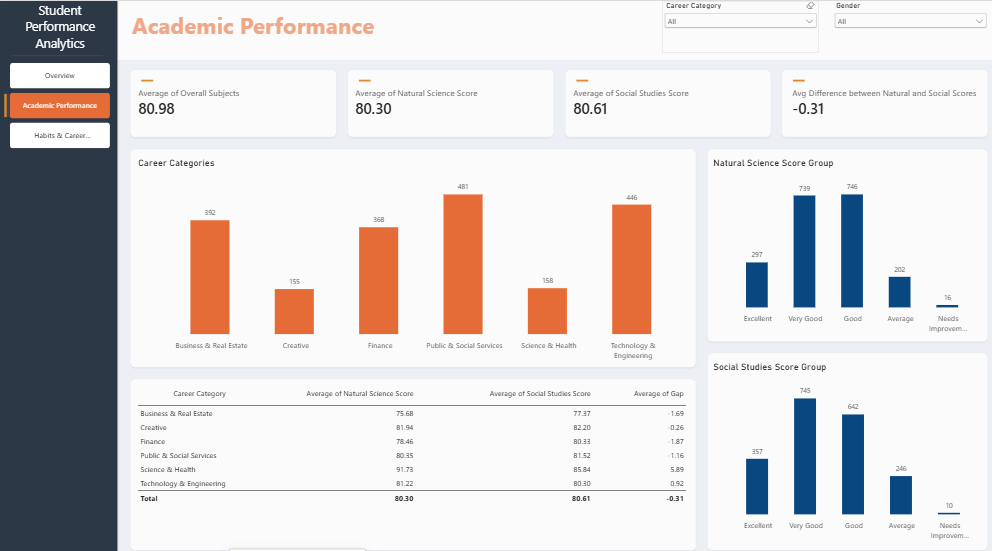

Layout of this report page (visuals, bound fields, positions):
{"tool":"powerbi","page":{"name":"Academic Performance","canvas":[1920,1080],"ordinal":1},"visuals":[{"type":"clusteredColumnChart","title":"Career Categories","fields":{"Category":["StudentPerformance.Career Category","StudentPerformance.career_aspiration"],"Y":["CountNonNull(StudentPerformance.id)"]},"box":[255,285,1083.3,420],"z":0},{"type":"slicer","fields":{"Values":["StudentPerformance.gender"]},"box":[1596.6,0,300.5,98.8],"z":1000},{"type":"tableEx","fields":{"Values":["StudentPerformance.Career Category","Avg(StudentPerformance.Natural Science Score)","Avg(StudentPerformance.Social Studies Score)","Avg(StudentPerformance.Gap)"]},"box":[252.3,723,1084.5,327.6],"z":2000},{"type":"clusteredColumnChart","title":"Natural Science Score Group","fields":{"Category":["StudentPerformance.Natural Science Group"],"Y":["CountNonNull(StudentPerformance.id)"]},"box":[1353.7,284.3,540.3,369],"z":3000},{"type":"clusteredColumnChart","title":"Social Studies Score Group","fields":{"Category":["StudentPerformance.Social Studies Group"],"Y":["CountNonNull(StudentPerformance.id)"]},"box":[1353.7,675.9,544.1,374.7],"z":4000},{"type":"cardVisual","fields":{"Data":["Avg(StudentPerformance.Natural Science Score)"]},"box":[668.4,129.9,393.5,129.9],"z":5000},{"type":"cardVisual","fields":{"Data":["Avg(StudentPerformance.Social Studies Score)"]},"box":[1086.3,129.9,393.5,129.9],"z":6000},{"type":"cardVisual","fields":{"Data":["Avg(StudentPerformance.Gap)"]},"box":[1504.3,129.9,393.5,129.9],"z":7000},{"type":"cardVisual","fields":{"Data":["Avg(StudentPerformance.Overall Avg Score)"]},"box":[254.2,129.9,393.5,129.9],"z":8000},{"type":"slicer","fields":{"Values":["StudentPerformance.Career Category"]},"box":[1270.8,0,300.5,98.8],"z":9000},{"type":"pageNavigator","box":[23.9,117.8,191.4,165.6],"z":9001},{"type":"textbox","box":[257.7,16.6,638.7,84.7],"z":9002},{"type":"textbox","box":[23.9,0,191.4,101.2],"z":9003}]}

Visuals, with their boxes on the page's 1920x1080 design canvas (x1, y1, x2, y2). These are canvas units, not pixel positions in the 992x551 screenshot, which may show the page scaled, cropped or inside an application window:
"Career Categories" clusteredColumnChart: [x1=255, y1=285, x2=1338, y2=705]
slicer - StudentPerformance.gender: [x1=1597, y1=0, x2=1897, y2=99]
tableEx - StudentPerformance.Career Category x Avg(StudentPerformance.Natural Science Score): [x1=252, y1=723, x2=1337, y2=1051]
"Natural Science Score Group" clusteredColumnChart: [x1=1354, y1=284, x2=1894, y2=653]
"Social Studies Score Group" clusteredColumnChart: [x1=1354, y1=676, x2=1898, y2=1051]
cardVisual - Avg(StudentPerformance.Natural Science Score): [x1=668, y1=130, x2=1062, y2=260]
cardVisual - Avg(StudentPerformance.Social Studies Score): [x1=1086, y1=130, x2=1480, y2=260]
cardVisual - Avg(StudentPerformance.Gap): [x1=1504, y1=130, x2=1898, y2=260]
cardVisual - Avg(StudentPerformance.Overall Avg Score): [x1=254, y1=130, x2=648, y2=260]
slicer - StudentPerformance.Career Category: [x1=1271, y1=0, x2=1571, y2=99]
pageNavigator: [x1=24, y1=118, x2=215, y2=283]
textbox: [x1=258, y1=17, x2=896, y2=101]
textbox: [x1=24, y1=0, x2=215, y2=101]
